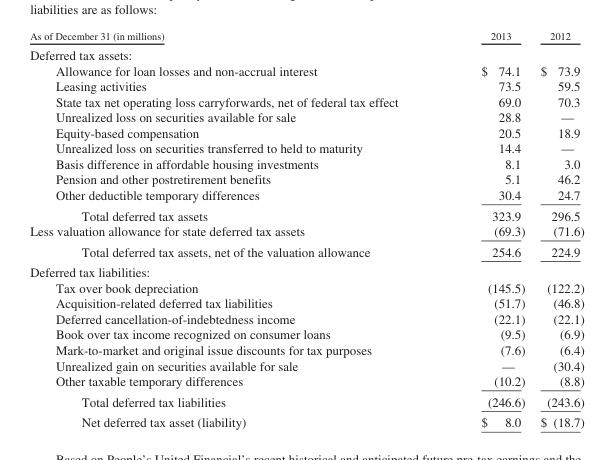table: (29, 29, 583, 429)
table column: (29, 29, 439, 429), (439, 29, 532, 429), (532, 29, 583, 429)
table column header: (29, 29, 583, 44)
table projected row header: (29, 44, 583, 62), (29, 261, 583, 279)
table row: (29, 390, 583, 411), (29, 241, 583, 261), (29, 222, 583, 241), (29, 44, 583, 62), (29, 186, 583, 204), (29, 204, 583, 222), (29, 261, 583, 279), (29, 372, 583, 390), (29, 411, 583, 429), (29, 62, 583, 78), (29, 93, 583, 109), (29, 124, 583, 140), (29, 155, 583, 171), (29, 279, 583, 295), (29, 310, 583, 326), (29, 341, 583, 357), (29, 29, 583, 44), (29, 78, 583, 93), (29, 109, 583, 124), (29, 140, 583, 155), (29, 171, 583, 186), (29, 295, 583, 310), (29, 326, 583, 341), (29, 357, 583, 372)
